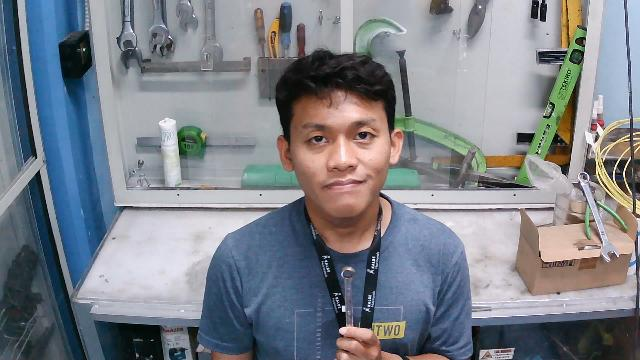kunci_pass_13: (325, 259, 373, 358)
